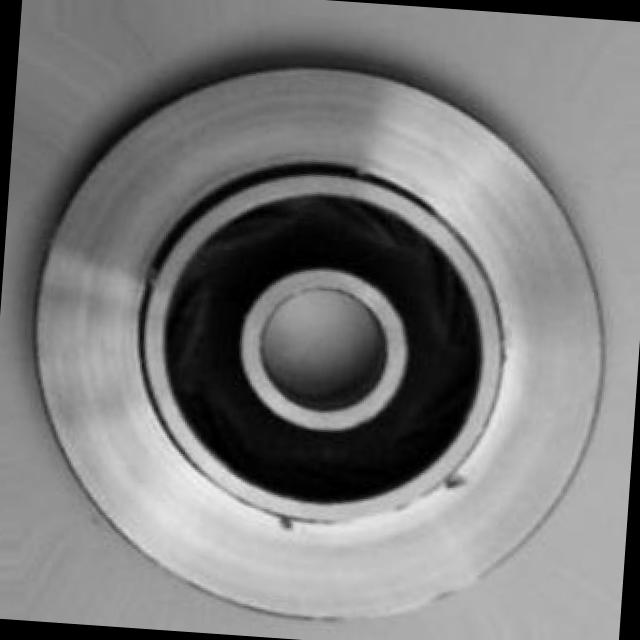Defect: (268, 506, 319, 548)
